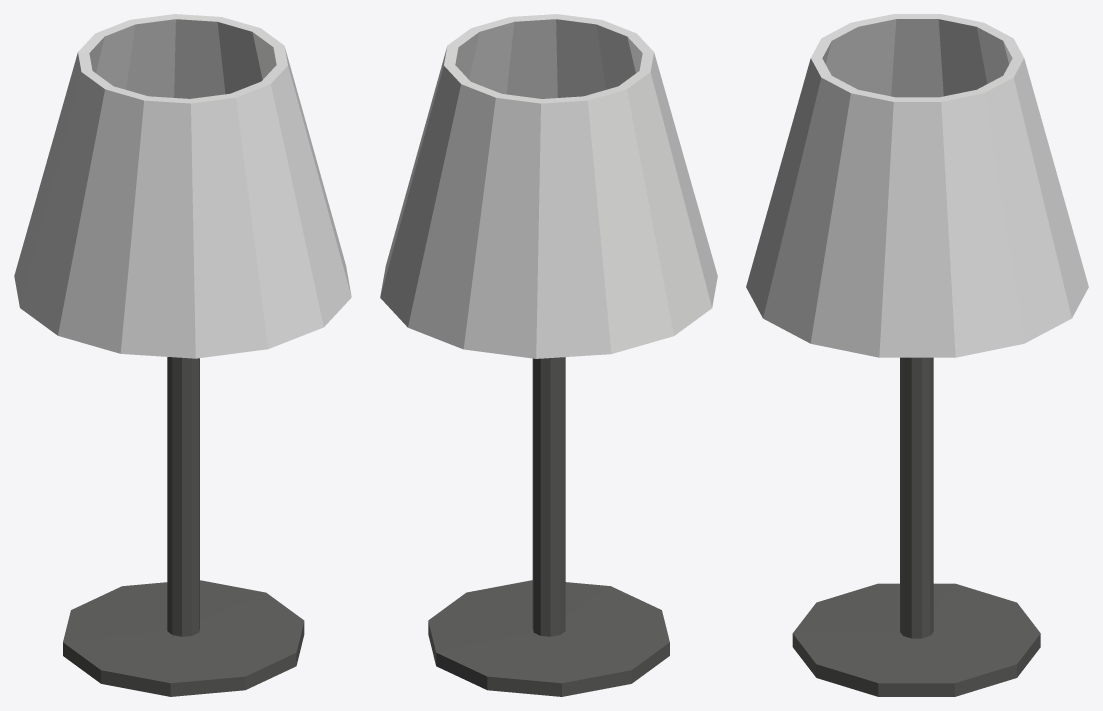
The model's file is FurnAcc_BedLamp.glb.
The picture shows the model from 3 angles, left to right: view 1: azimuth 30°, elevation 25°; view 2: azimuth 150°, elevation 25°; view 3: azimuth 270°, elevation 25°; orthographic projection.
Parts seen in each view (by area): view 1: FurnAcc_BedLamp; view 2: FurnAcc_BedLamp; view 3: FurnAcc_BedLamp.
Boxes of the visible parts, x1,y1,x2,y2 form: FurnAcc_BedLamp: (14,14,351,696); FurnAcc_BedLamp: (380,14,717,696); FurnAcc_BedLamp: (746,14,1088,696).
Size of the model in its own units: 0.3268 by 0.6352 by 0.3352.
Materials: 1 (1 with a texture image).
